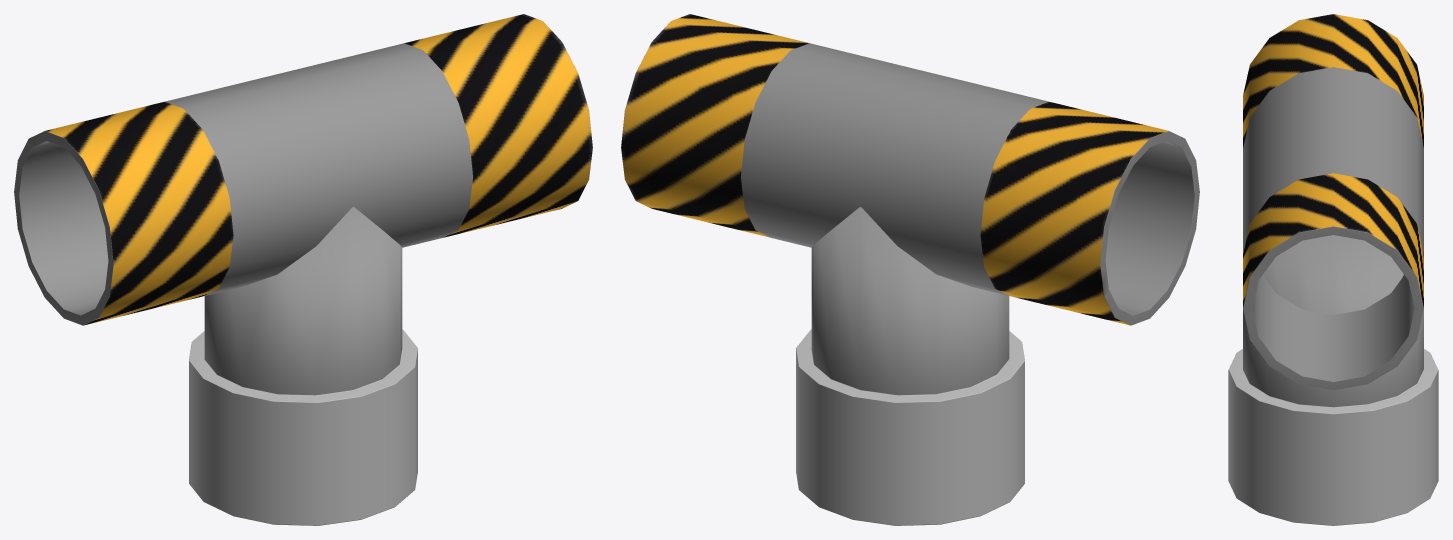
File: SM_Pipe_06.fbx
3 renders of one model, left to right at view 1: azimuth 30°, elevation 25°; view 2: azimuth 150°, elevation 25°; view 3: azimuth 270°, elevation 25°, orthographic. The views are drawn at different scales.
Visible parts, largest first — view 1: SM_Pipe_06; view 2: SM_Pipe_06; view 3: SM_Pipe_06.
Part boxes in pixels (<box>): SM_Pipe_06: <box>14,14,592,525</box>; SM_Pipe_06: <box>621,14,1199,525</box>; SM_Pipe_06: <box>1228,14,1438,525</box>.
Size of the model in its own units: 113 by 47.22 by 89.69.
1 material, 1 textured.
